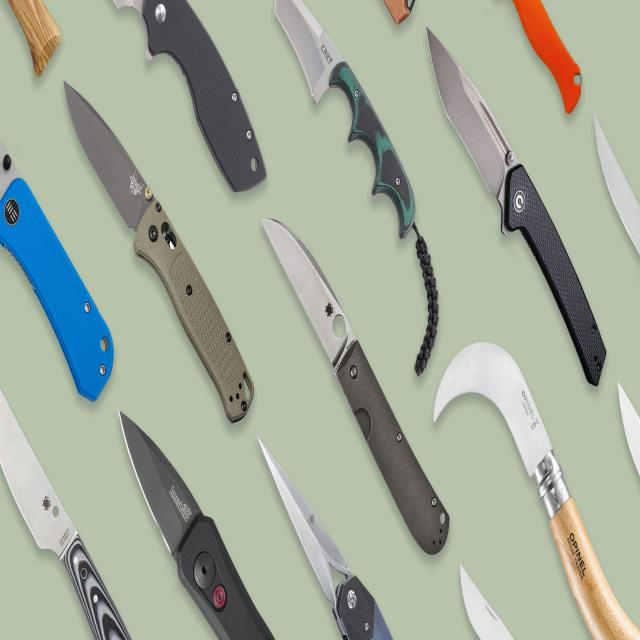weapon: (421, 20, 613, 398), (61, 80, 261, 425), (257, 214, 450, 553)
